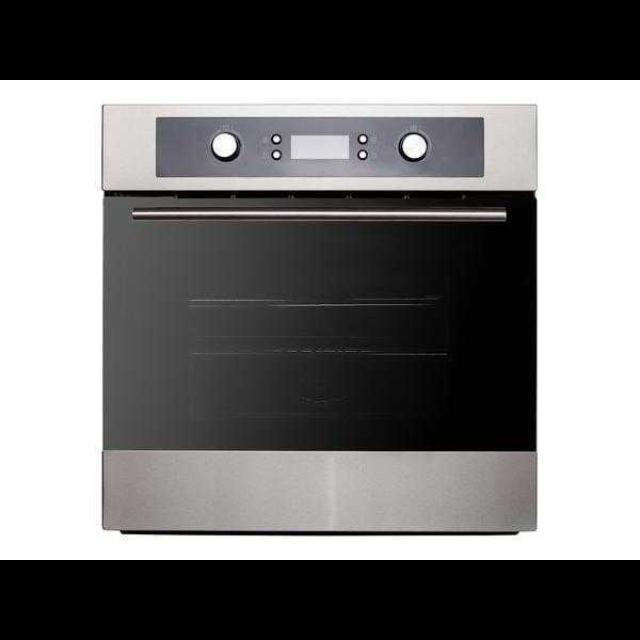Oven: (96, 99, 540, 539)
